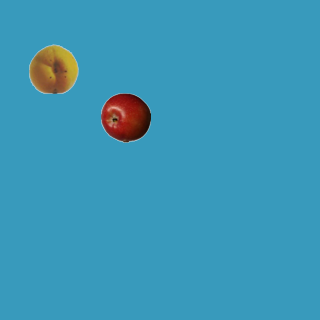Apple Braeburn: (100, 92, 150, 142)
Peach 2: (28, 43, 78, 93)
